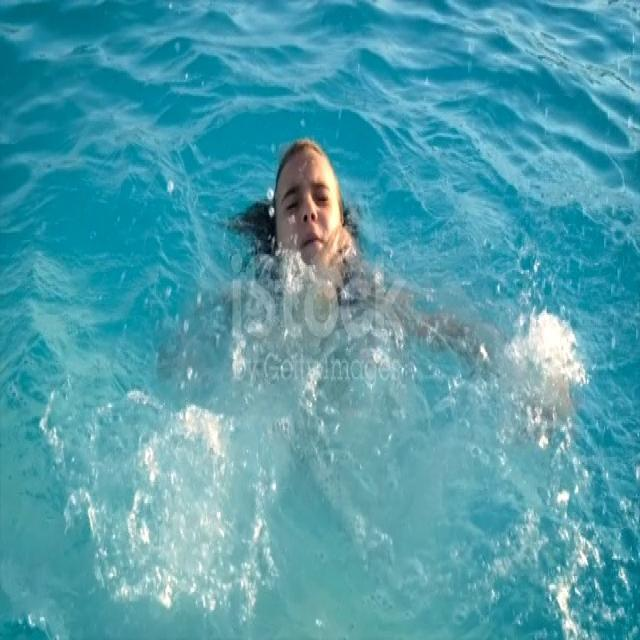drowning: (244, 128, 376, 338)
